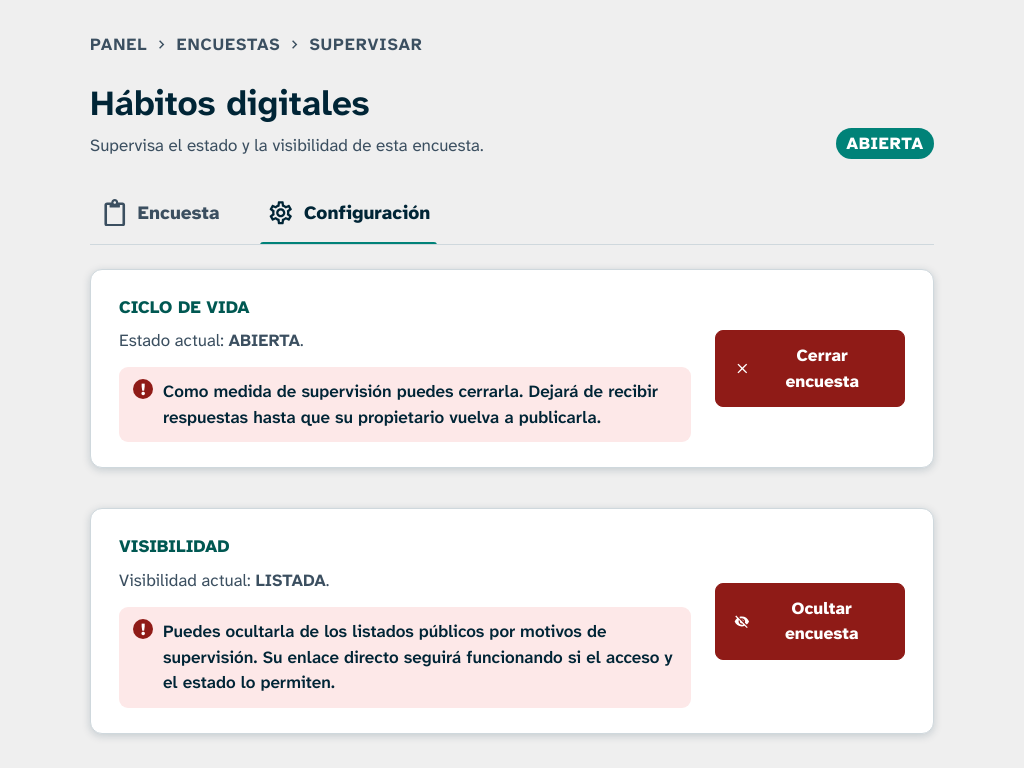
Test: EditSurveyPage › permite al administrador cerrar y ocultar una encuesta abierta
Click the button "Cerrar encuesta" at (810, 368), box top-left (715, 330), bottom-right (905, 407)
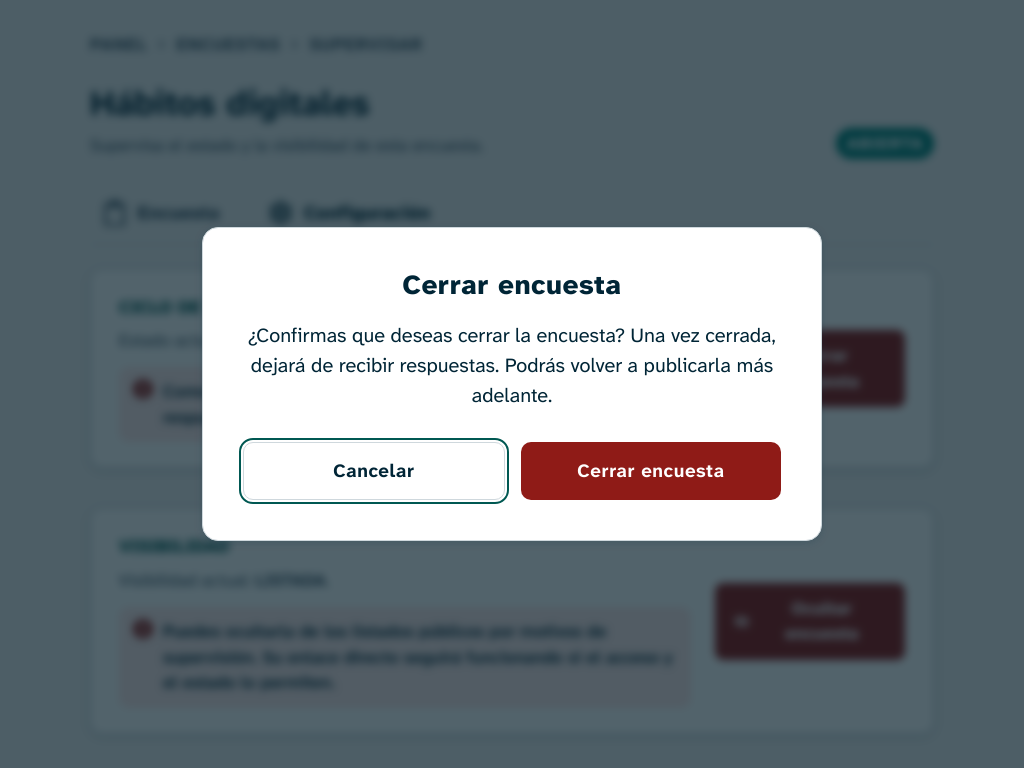
Click the button "Cerrar encuesta" at (651, 471), box top-left (521, 442), bottom-right (781, 500)
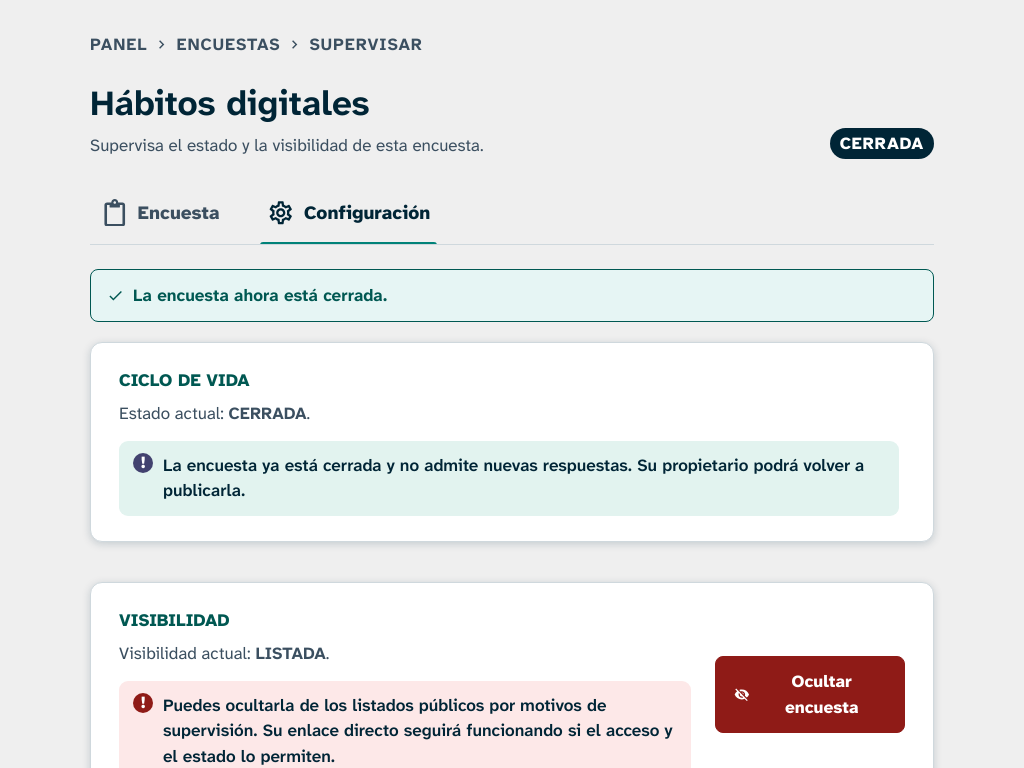
Expected: the message reads "La encuesta ahora está cerrada.", top-left (133, 284), bottom-right (387, 306)
Click the button "Ocultar encuesta" at (810, 694), box top-left (715, 656), bottom-right (905, 733)
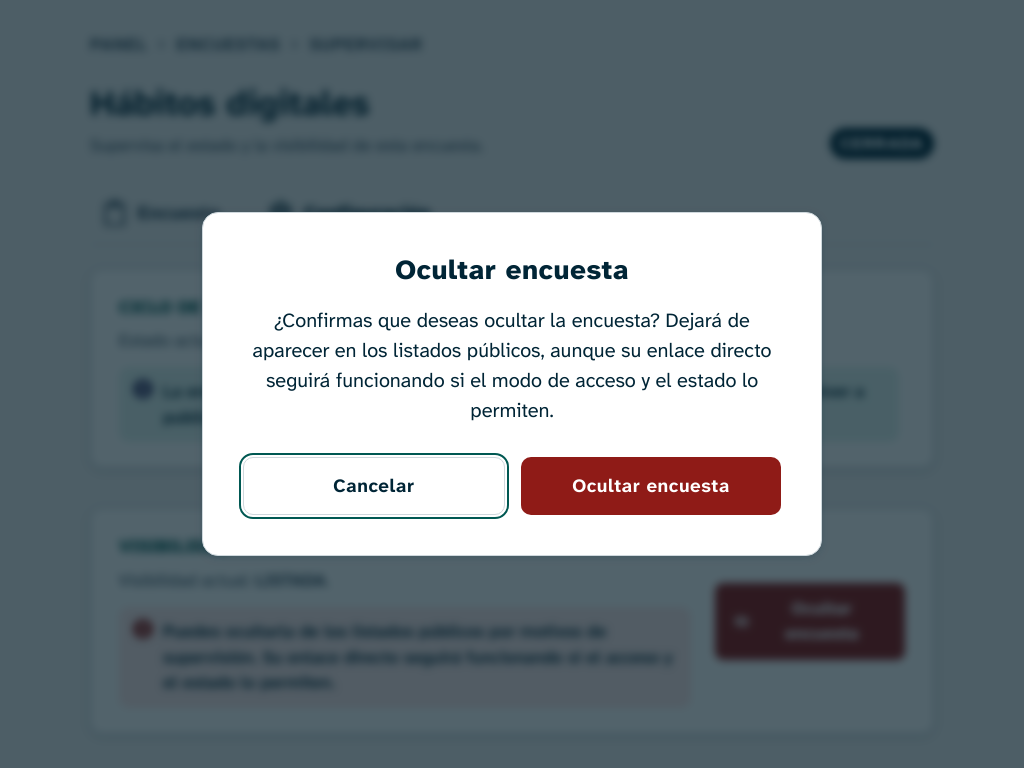
Click the button "Ocultar encuesta" at (651, 486), box top-left (521, 457), bottom-right (781, 515)
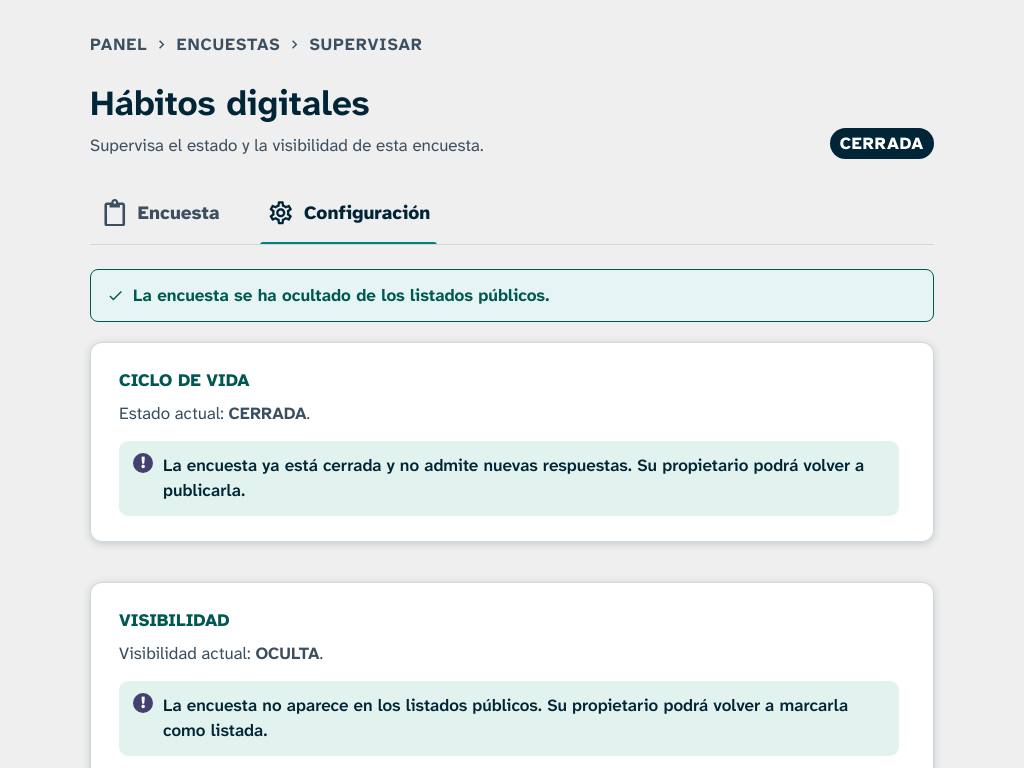
Expected: the message shows "La encuesta se ha ocultado", top-left (133, 284), bottom-right (550, 306)
